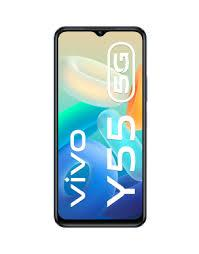Smartphone: (53, 20, 149, 232)
